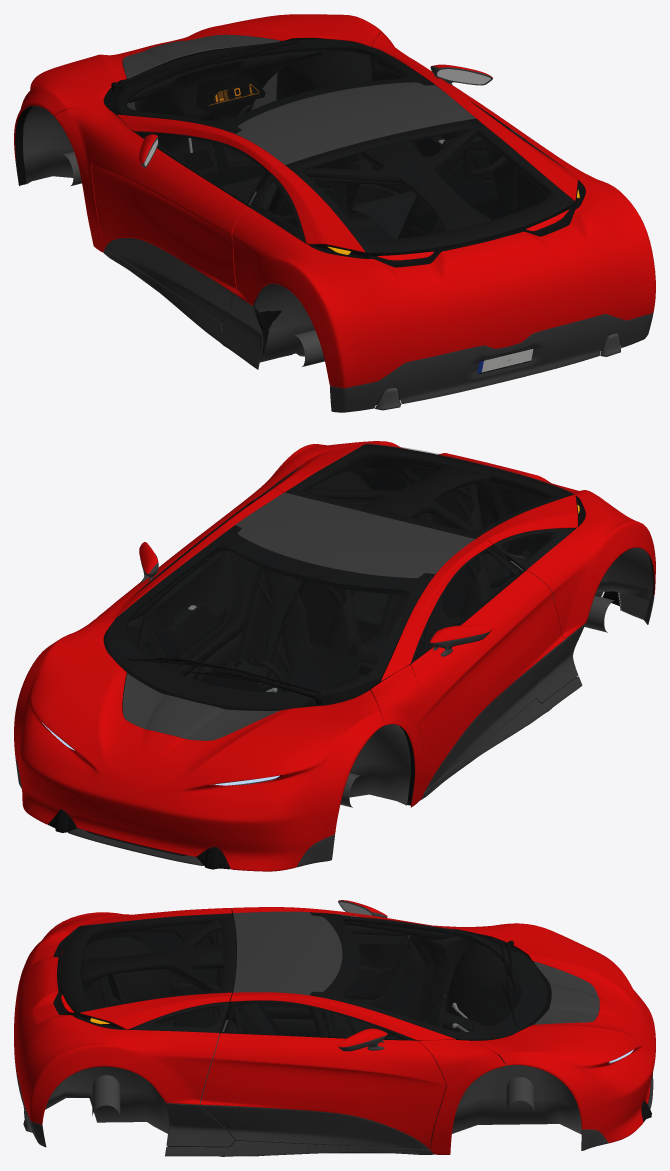
The model's file is Body_Carmine.glb.
3 renders of one model, top to bottom at view 1: azimuth 30°, elevation 25°; view 2: azimuth 150°, elevation 25°; view 3: azimuth 270°, elevation 25°, orthographic. The views are drawn at different scales.
Parts seen in each view (by area): view 1: BodyRearPanelsColor1, BodyRearwindow, BodyWindshield, BodyPanelsColor2, BodyDoorLColor1, BodyRoofPanel, BodyHood, InteriorRearHatch, BodyPillars, InteriorPillar, BodyUnderside, InteriorDashMid (+20 smaller); view 2: BodyHood, BodyWindshield, BodyRearwindow, BodyDoorLColor1, BodyRearPanelsColor1, BodyRoofPanel, BodyWindshieldGasket, InteriorSeatsColor2, InteriorSeatsFrame1, BodyPillars, InteriorDoorR01, InteriorPillar (+19 smaller); view 3: BodyWindshield, BodyRearPanelsColor1, BodyDoorRColor1, BodyHood, BodyRearwindow, BodyUnderside, BodyRoofPanel, BodyPillars, BodyWindshieldGasket, InteriorFloor, BodyDoorRColor2, BodyPanelsColor2 (+19 smaller).
Part boxes in pixels (left/top/right/bottom): BodyRearPanelsColor1: left=232, top=115, right=655, bottom=388; BodyRearwindow: left=285, top=118, right=574, bottom=252; BodyWindshield: left=118, top=39, right=434, bottom=133; BodyPanelsColor2: left=15, top=160, right=653, bottom=412; BodyDoorLColor1: left=91, top=131, right=249, bottom=293; BodyRoofPanel: left=236, top=82, right=475, bottom=164; BodyHood: left=14, top=14, right=383, bottom=159; InteriorRearHatch: left=272, top=119, right=574, bottom=257; BodyPillars: left=54, top=32, right=490, bottom=252; InteriorPillar: left=241, top=120, right=491, bottom=231; BodyUnderside: left=23, top=105, right=620, bottom=410; InteriorDashMid: left=126, top=47, right=329, bottom=166; BodyHood: left=14, top=626, right=384, bottom=871; BodyWindshield: left=107, top=525, right=434, bottom=708; BodyRearwindow: left=286, top=443, right=574, bottom=538; BodyDoorLColor1: left=411, top=570, right=564, bottom=791; BodyRearPanelsColor1: left=238, top=441, right=655, bottom=638; BodyRoofPanel: left=235, top=492, right=475, bottom=578; BodyWindshieldGasket: left=103, top=526, right=434, bottom=710; InteriorSeatsColor2: left=195, top=505, right=488, bottom=692; InteriorSeatsFrame1: left=230, top=484, right=491, bottom=778; BodyPillars: left=68, top=488, right=492, bottom=807; InteriorDoorR01: left=140, top=506, right=259, bottom=676; InteriorPillar: left=233, top=464, right=511, bottom=596; BodyWindshield: left=310, top=912, right=546, bottom=1038; BodyRearPanelsColor1: left=14, top=908, right=231, bottom=1124; BodyDoorRColor1: left=200, top=1033, right=446, bottom=1149; BodyHood: left=472, top=923, right=655, bottom=1143; BodyRearwindow: left=60, top=913, right=235, bottom=1012; BodyUnderside: left=23, top=1063, right=581, bottom=1134; BodyRoofPanel: left=233, top=911, right=342, bottom=995; BodyPillars: left=230, top=907, right=505, bottom=1154; BodyWindshieldGasket: left=310, top=913, right=551, bottom=1040; InteriorFloor: left=81, top=936, right=650, bottom=1153; BodyDoorRColor2: left=200, top=1105, right=428, bottom=1149; BodyPanelsColor2: left=14, top=1054, right=653, bottom=1156.
Bounding box in the file's own units: 2.34 × 1.06 × 4.36.
16 materials, 2 textured.
